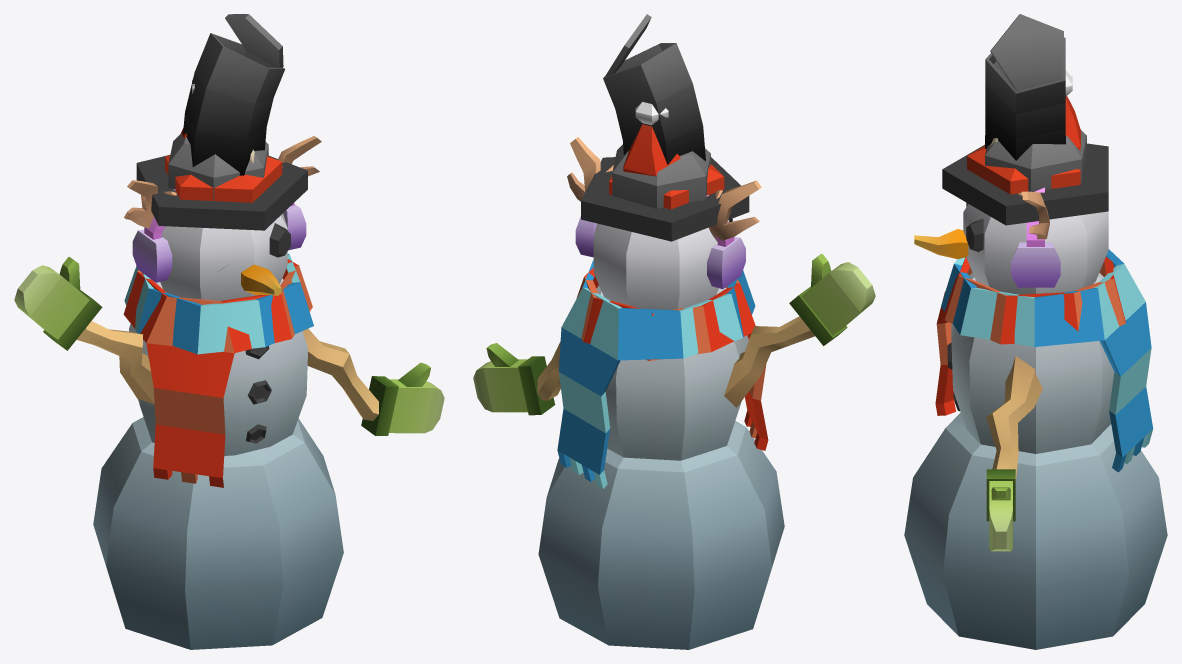
Rendered from snowman.glb.
3 renders of one model, left to right at view 1: azimuth 30°, elevation 25°; view 2: azimuth 150°, elevation 25°; view 3: azimuth 270°, elevation 25°, orthographic. The views are drawn at different scales.
Parts seen in each view (by area): view 1: body_snowman, hat_1, scarf_2, gloves_1, scarf_1, hat_3, hat_2, hat_5; view 2: body_snowman, hat_1, scarf_1, gloves_1, scarf_2, hat_2, hat_5, hat_3, hat_4; view 3: body_snowman, hat_1, scarf_1, scarf_2, hat_2, gloves_1, hat_3, hat_5, hat_4.
Boxes of the visible parts, left/top/right/bottom form: body_snowman: left=76, top=213, right=378, bottom=649; hat_1: left=136, top=14, right=307, bottom=230; scarf_2: left=123, top=259, right=312, bottom=487; gloves_1: left=14, top=257, right=444, bottom=435; scarf_1: left=124, top=253, right=313, bottom=354; hat_3: left=132, top=189, right=306, bottom=282; hat_2: left=168, top=133, right=268, bottom=200; hat_5: left=124, top=136, right=321, bottom=228; body_snowman: left=537, top=218, right=814, bottom=649; hat_1: left=581, top=14, right=749, bottom=241; scarf_1: left=557, top=260, right=755, bottom=488; gloves_1: left=473, top=253, right=875, bottom=415; scarf_2: left=576, top=268, right=768, bottom=450; hat_2: left=612, top=144, right=710, bottom=208; hat_5: left=567, top=137, right=761, bottom=241; hat_3: left=575, top=195, right=745, bottom=289; hat_4: left=623, top=102, right=680, bottom=176; body_snowman: left=904, top=202, right=1167, bottom=649; hat_1: left=942, top=14, right=1108, bottom=225; scarf_1: left=941, top=249, right=1153, bottom=472; scarf_2: left=935, top=257, right=1125, bottom=415; hat_2: left=985, top=130, right=1086, bottom=191; gloves_1: left=986, top=469, right=1015, bottom=551; hat_3: left=1011, top=187, right=1060, bottom=287; hat_5: left=1018, top=191, right=1049, bottom=239; hat_4: left=1065, top=70, right=1080, bottom=150.
Size of the model in its own units: 4.42 by 6.08 by 2.41.
Materials: 1 (1 with a texture image).
